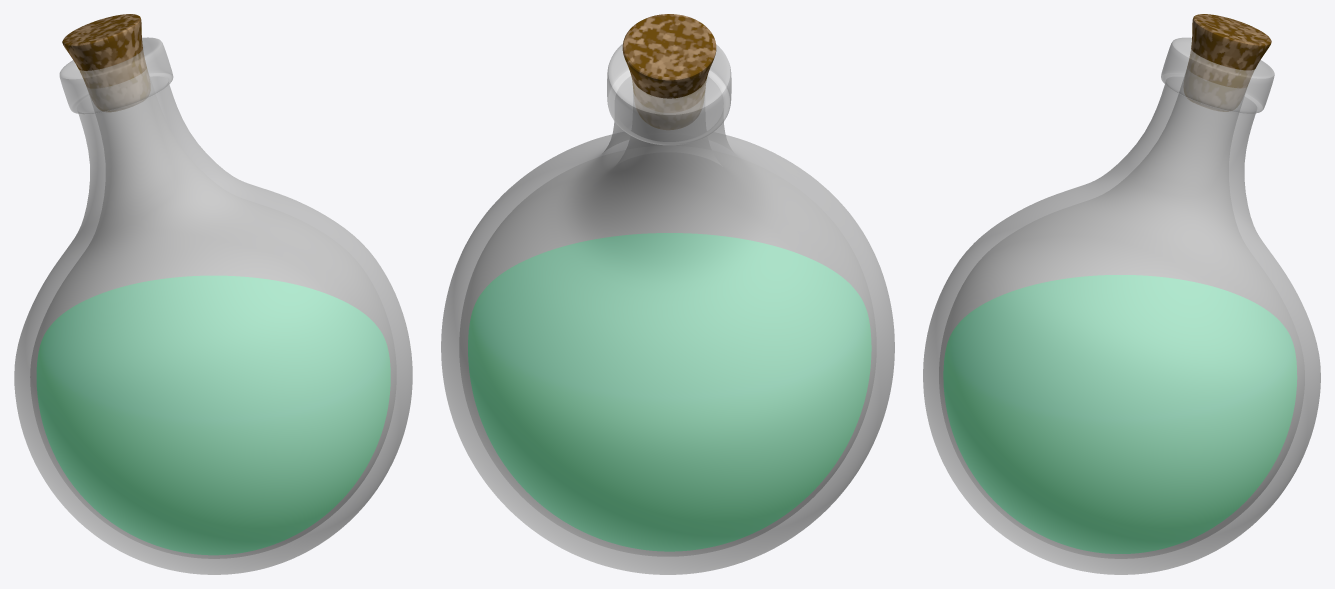
The model's file is poison.fbx.
3 renders of one model, left to right at view 1: azimuth 30°, elevation 25°; view 2: azimuth 150°, elevation 25°; view 3: azimuth 270°, elevation 25°, orthographic. The views are drawn at different scales.
Visible parts, largest first — view 1: bottle; view 2: bottle; view 3: bottle.
Boxes of the visible parts, box(x1,y1,x2,y2) form: bottle: box(14, 14, 412, 574); bottle: box(441, 14, 894, 574); bottle: box(923, 14, 1320, 574).
Size of the model in its own units: 169 by 240 by 169.
3 materials, 1 textured.
